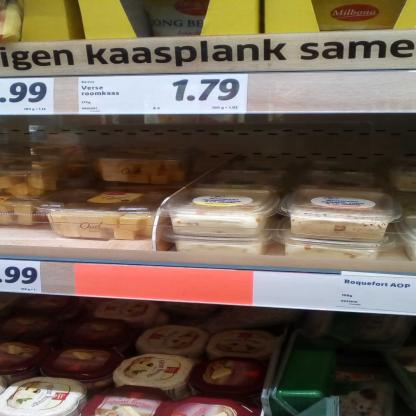prtg: (80, 75, 249, 115), (337, 272, 416, 314), (1, 78, 56, 116), (1, 260, 43, 295)
